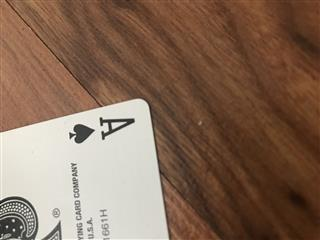AceOfSpades: (1, 97, 169, 240)
